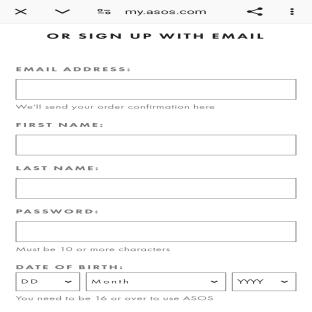Exist: (15, 6, 32, 17)
Filter icon: (95, 7, 115, 16)
Input field: (10, 207, 302, 245), (11, 164, 302, 202), (11, 120, 299, 158), (13, 64, 299, 101), (84, 271, 228, 294), (11, 270, 82, 295), (231, 272, 301, 292)
radio: (283, 5, 302, 19)
shareicon: (245, 5, 267, 19)
